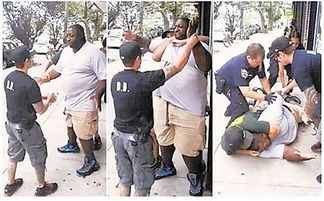falling: (216, 87, 312, 161)
